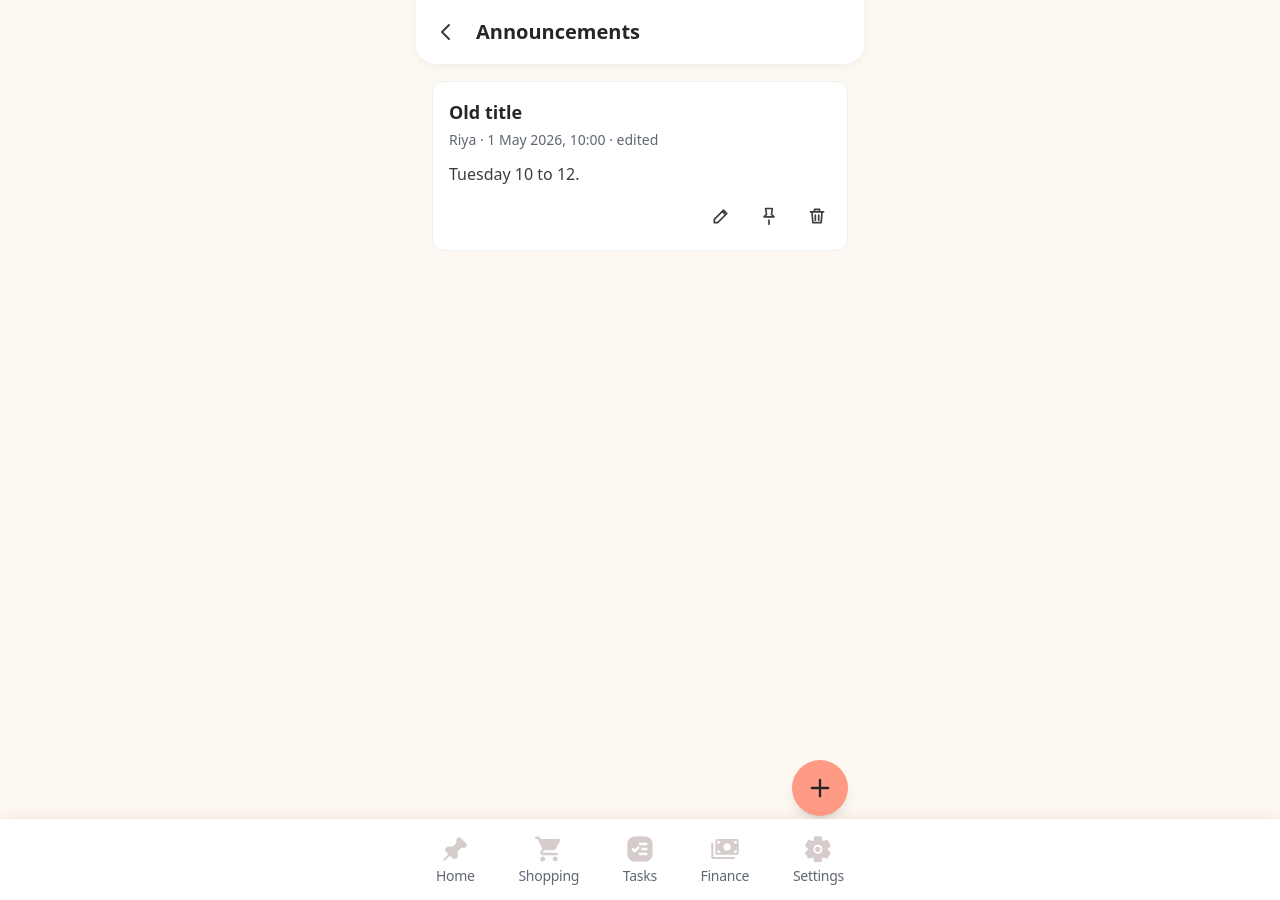
Test case: editing and deleting › edit starts from the saved text, keeps Save disabled until changed, and sends the version
This screenshot has width=1280, height=900.
Click the button named "Edit": coordinates (721, 216) [699,194,743,238]
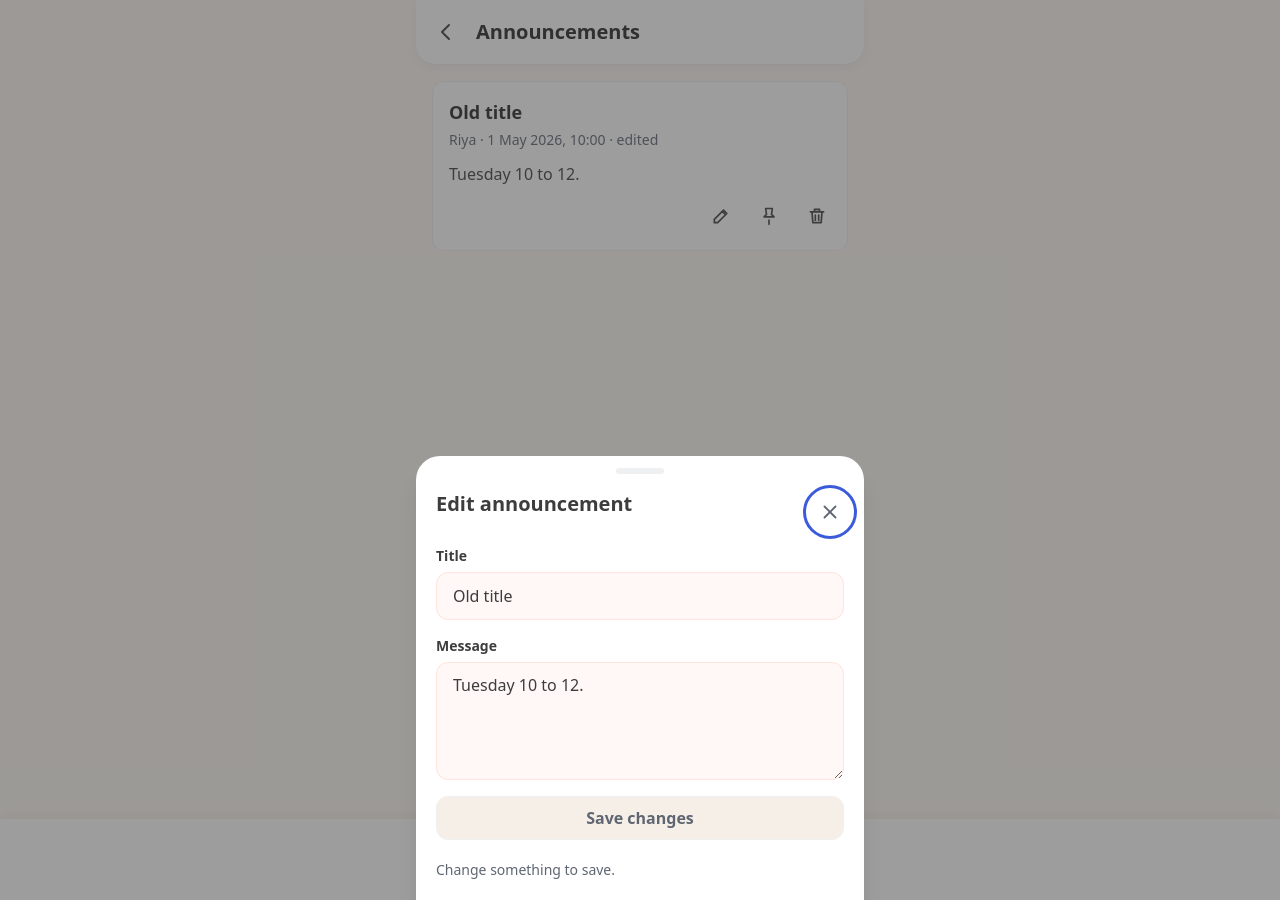
Expected: the field labelled "Title" holds "Old title"
Replace the text in the field labelled "Title" with "New title": coordinates (640, 596) [436,572,844,620]
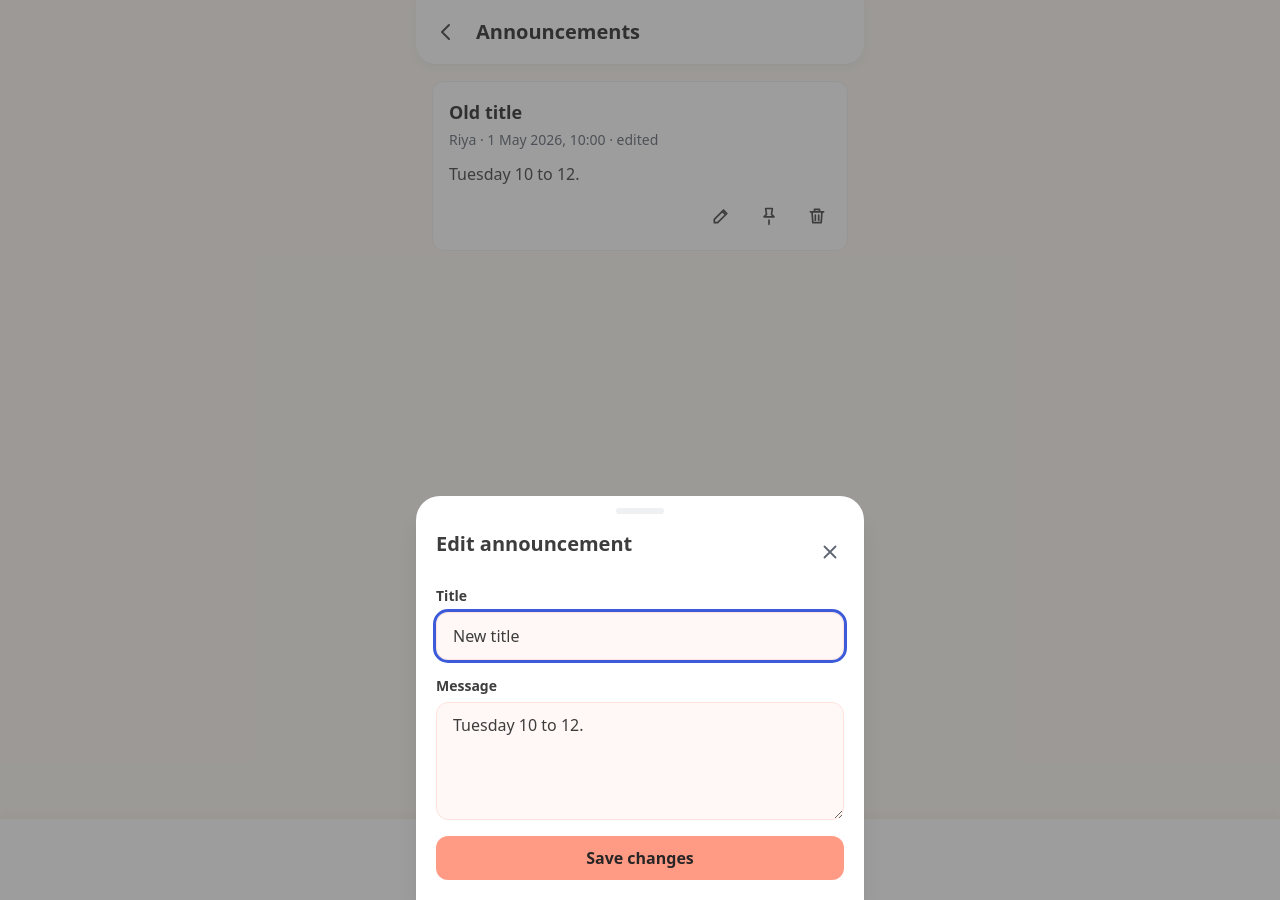
Click the button "Save changes": coordinates (640, 858) [436,836,844,880]
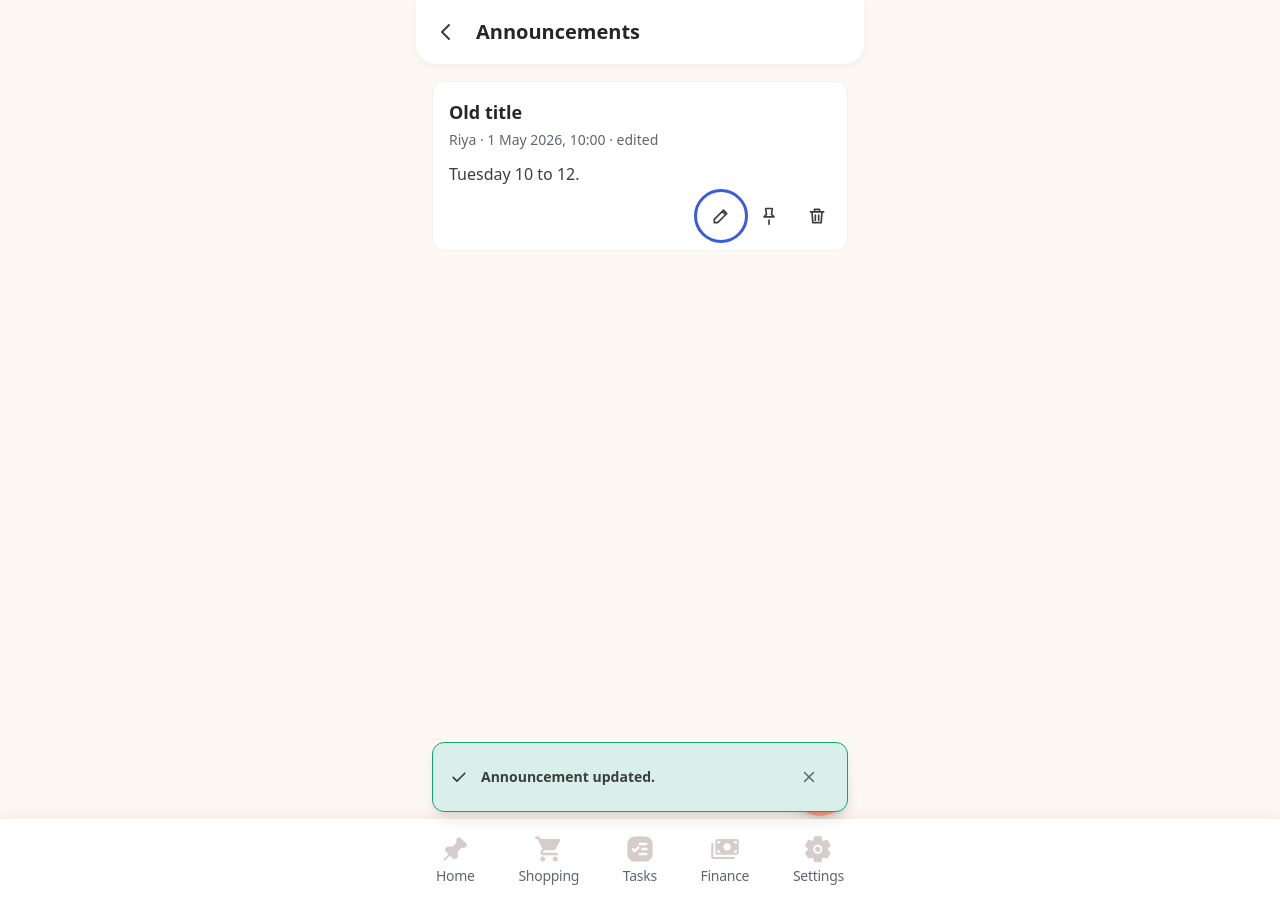
Expected: the text "Announcement updated." is shown, [481,767,655,786]
